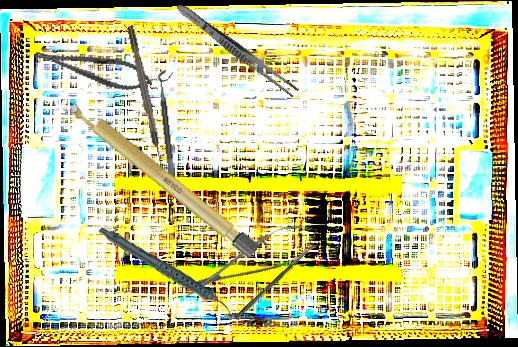Dressing Forceps: (173, 0, 301, 99)
Fixation Ring: (156, 68, 185, 182)
Handpiece: (97, 203, 234, 341)
Hook Surgical: (126, 24, 166, 171)
Micro Scissor: (175, 212, 326, 310)
Needle Holder: (32, 38, 156, 98)
Scalpel Handle: (65, 95, 261, 260)
Surgical Spoon: (234, 240, 319, 321)
